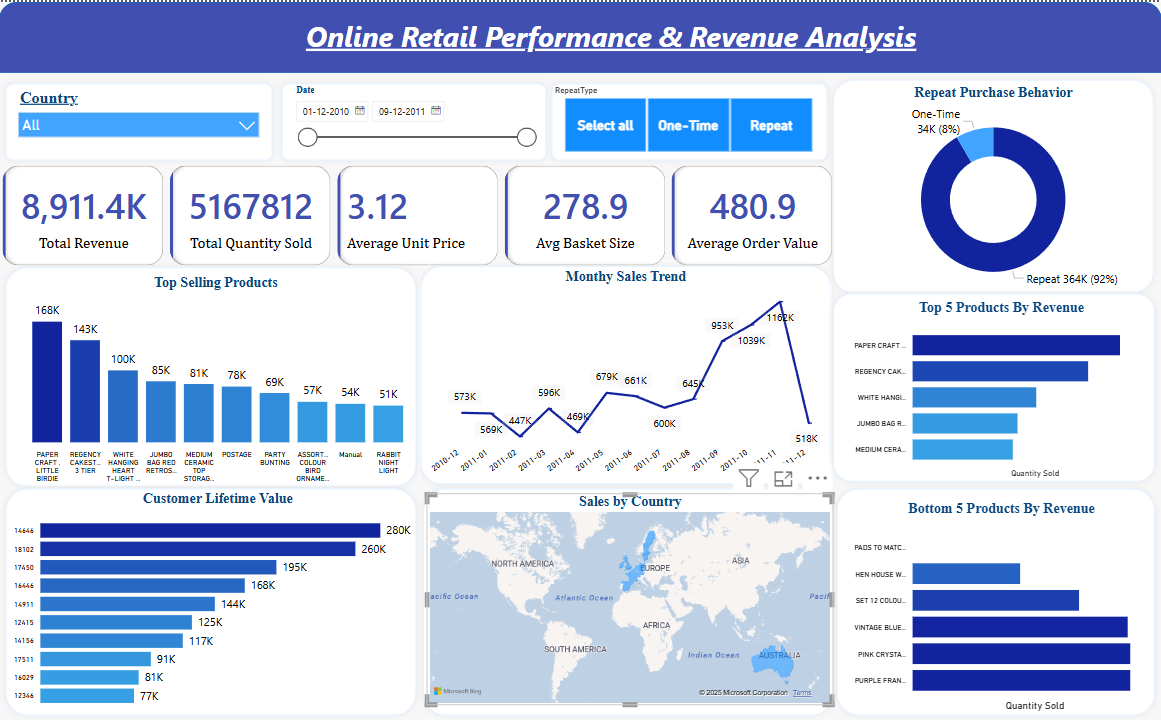

The page's visual inventory and layout, read from the dashboard file:
{"tool":"powerbi","page":{"name":"Page 1","canvas":[1550,960],"ordinal":0},"visuals":[{"type":"cardVisual","fields":{"Data":["CleanedRetail.Total Revenue","CleanedRetail.Total Quantity Sold","CleanedRetail.Average Unit Price","CleanedRetail.Avg Basket Size","CleanedRetail.AOV"]},"box":[0,213.3,1116.7,143.3],"z":0},{"type":"shape","box":[0,345,565,310],"z":1000},{"type":"shape","title":"Online Retail Performance & Revenue Analysis","box":[0,0,1550.3,94.7],"z":2000},{"type":"textbox","box":[81.4,15,1468.9,79.8],"z":3000},{"type":"clusteredColumnChart","title":"Top Selling Products","fields":{"Y":["CleanedRetail.Total Revenue"],"Category":["CleanedRetail.Description"]},"box":[13.3,363.3,551.7,285],"z":4000},{"type":"shape","box":[553.3,343.3,565,308.3],"z":5000},{"type":"lineChart","title":"Monthy Sales Trend","fields":{"Category":["CleanedRetail.MonthYear"],"Y":["Sum(CleanedRetail.Revenue)"]},"box":[560,345,550,310],"z":6000},{"type":"shape","box":[0,640,565,320],"z":7000},{"type":"barChart","title":"Customer Lifetime Value","fields":{"Category":["CleanedRetail.CustomerID"],"Y":["CleanedRetail.Customer_Lifetime_Value"]},"box":[13.3,651.7,556.7,298.3],"z":8000},{"type":"shape","box":[556.7,640,565,320],"z":9000},{"type":"shape","box":[1103.3,95,445,301.7],"z":10000},{"type":"donutChart","title":"Repeat Purchase Behavior","fields":{"Category":["CleanedRetail.RepeatType"],"Y":["CountNonNull(CleanedRetail.CustomerID)"]},"box":[1111.7,110,428.3,286.7],"z":11000},{"type":"filledMap","title":"Sales by Country","fields":{"Category":["CleanedRetail.Country"],"Series":["CleanedRetail.TotalRevenue"]},"box":[570,655,543.3,283.3],"z":12000},{"type":"shape","box":[0,100,373.3,120],"z":13000},{"type":"slicer","fields":{"Values":["CleanedRetail.Country"]},"box":[15,110,341.7,106.7],"z":14000},{"type":"shape","box":[1103.3,380,446.7,268.3],"z":15000},{"type":"shape","box":[1108.3,640,441.7,320],"z":16000},{"type":"barChart","title":"Top 5 Products By Revenue","fields":{"Category":["CleanedRetail.Description"],"Y":["CleanedRetail.Total Revenue"]},"box":[1123.3,396.7,426.7,243.3],"z":17000},{"type":"barChart","title":"Bottom 5 Products By Revenue","fields":{"Category":["CleanedRetail.Description"],"Y":["CleanedRetail.Total Revenue"]},"box":[1123.3,665,426.7,285],"z":18000},{"type":"shape","box":[368.3,100,370,120],"z":19000},{"type":"shape","box":[728.3,100,385,120],"z":20000},{"type":"slicer","fields":{"Values":["CleanedRetail.InvoiceDate"]},"box":[383.3,106.7,341.7,106.7],"z":21000},{"type":"slicer","fields":{"Values":["CleanedRetail.RepeatType"]},"box":[728.3,106.7,380,100],"z":22000}]}

Visuals, with their boxes in screenshot pixels (x1, y1, x2, y2), scaled from the page's 1550x960 canvas onto the 1161x720 screenshot:
cardVisual - CleanedRetail.Total Revenue x CleanedRetail.Total Quantity Sold: <box>0,160,836,267</box>
shape: <box>0,259,423,491</box>
"Online Retail Performance & Revenue Analysis" shape: <box>0,0,1160,71</box>
textbox: <box>61,11,1160,71</box>
"Top Selling Products" clusteredColumnChart: <box>10,272,423,486</box>
shape: <box>414,257,838,489</box>
"Monthy Sales Trend" lineChart: <box>419,259,831,491</box>
shape: <box>0,480,423,719</box>
"Customer Lifetime Value" barChart: <box>10,489,427,712</box>
shape: <box>417,480,840,719</box>
shape: <box>826,71,1160,298</box>
"Repeat Purchase Behavior" donutChart: <box>833,82,1154,298</box>
"Sales by Country" filledMap: <box>427,491,834,704</box>
shape: <box>0,75,280,165</box>
slicer - CleanedRetail.Country: <box>11,82,267,163</box>
shape: <box>826,285,1160,486</box>
shape: <box>830,480,1160,719</box>
"Top 5 Products By Revenue" barChart: <box>841,298,1160,480</box>
"Bottom 5 Products By Revenue" barChart: <box>841,499,1160,712</box>
shape: <box>276,75,553,165</box>
shape: <box>546,75,834,165</box>
slicer - CleanedRetail.InvoiceDate: <box>287,80,543,160</box>
slicer - CleanedRetail.RepeatType: <box>546,80,830,155</box>
